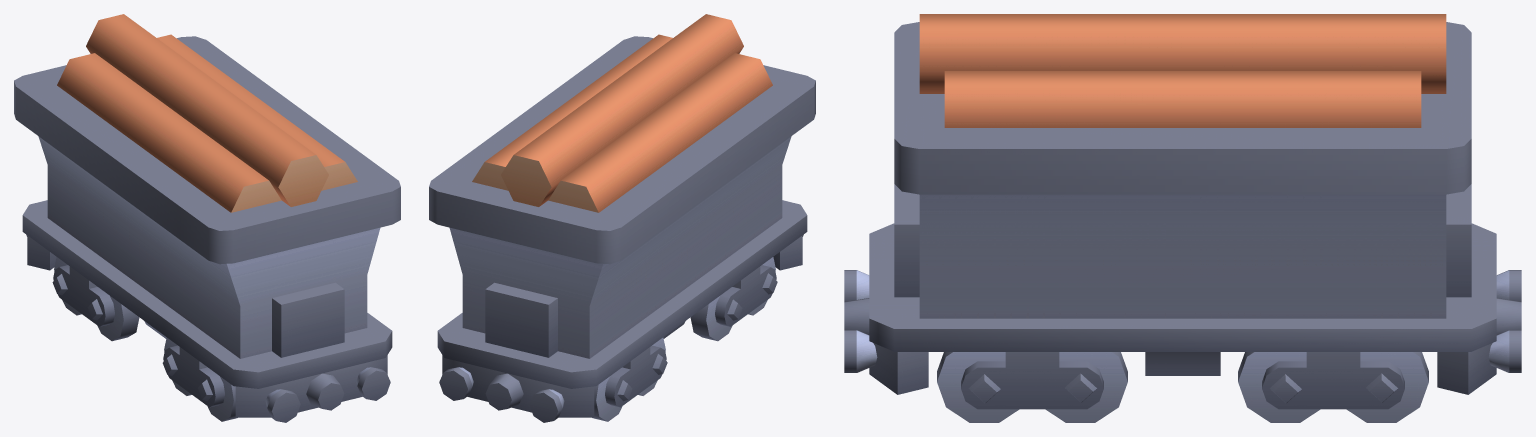
Rendered from train-carriage-wood.glb.
3 views of the same model, side by side, from view 1: azimuth 30°, elevation 25°; view 2: azimuth 150°, elevation 25°; view 3: azimuth 270°, elevation 25° (orthographic). The views are drawn at different scales.
Parts seen in each view (by area): view 1: train-carriage-wood; view 2: train-carriage-wood; view 3: train-carriage-wood.
Part boxes in pixels (x1,y1,x2,y2): train-carriage-wood: (14,14,400,422); train-carriage-wood: (429,14,815,422); train-carriage-wood: (844,14,1521,422).
Bounding box in the file's own units: 1.2 × 1.57 × 2.7.
1 material, 1 textured.
